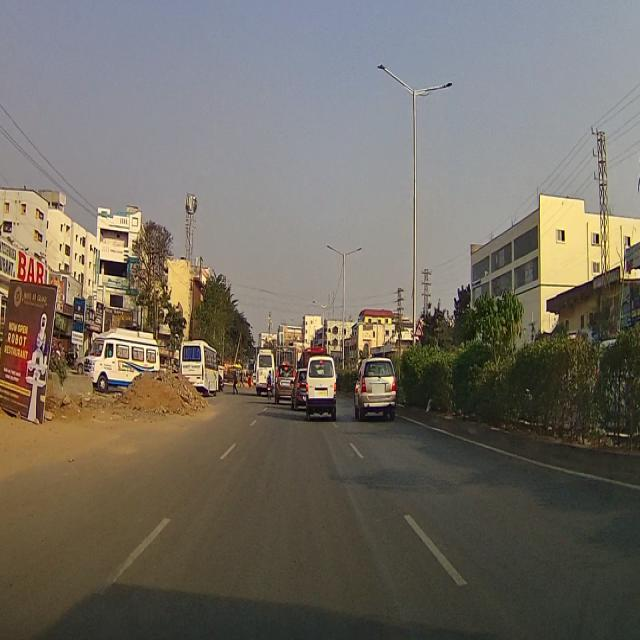left-hand-curve: (414, 320, 424, 336)
